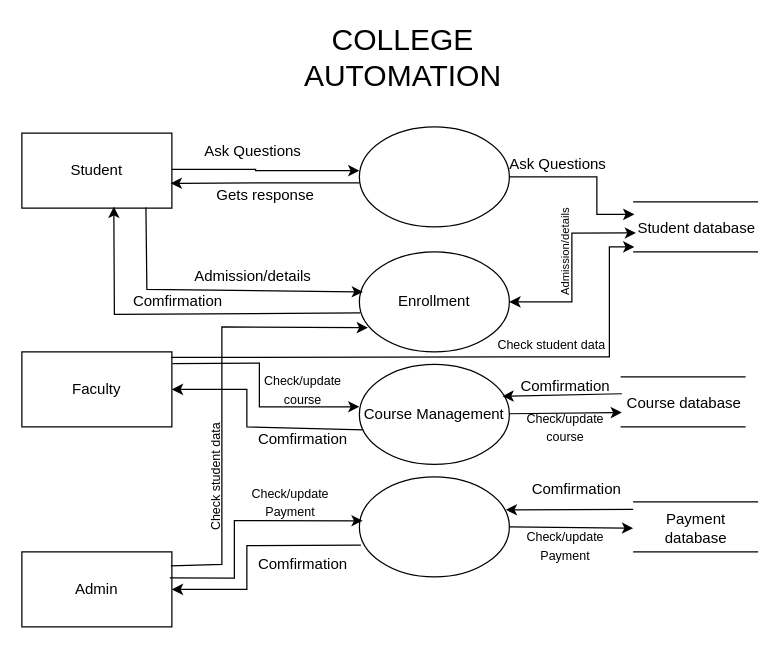
This 781x649 diagram has some shape labels left out. Each missing label, with the centre of its shape:
Enquiry: the point at 433,176
Payment: the point at 433,526
